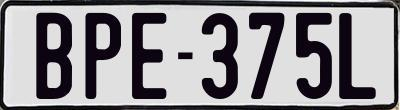3: (200, 12, 239, 99)
5: (296, 12, 333, 102)
7: (246, 10, 281, 101)
B: (33, 13, 73, 105)
E: (131, 10, 171, 99)
L: (337, 10, 378, 98)
P: (85, 12, 125, 100)
